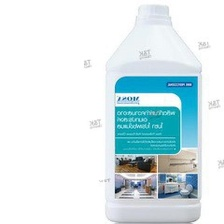cleaning_solution: (102, 2, 204, 224)
